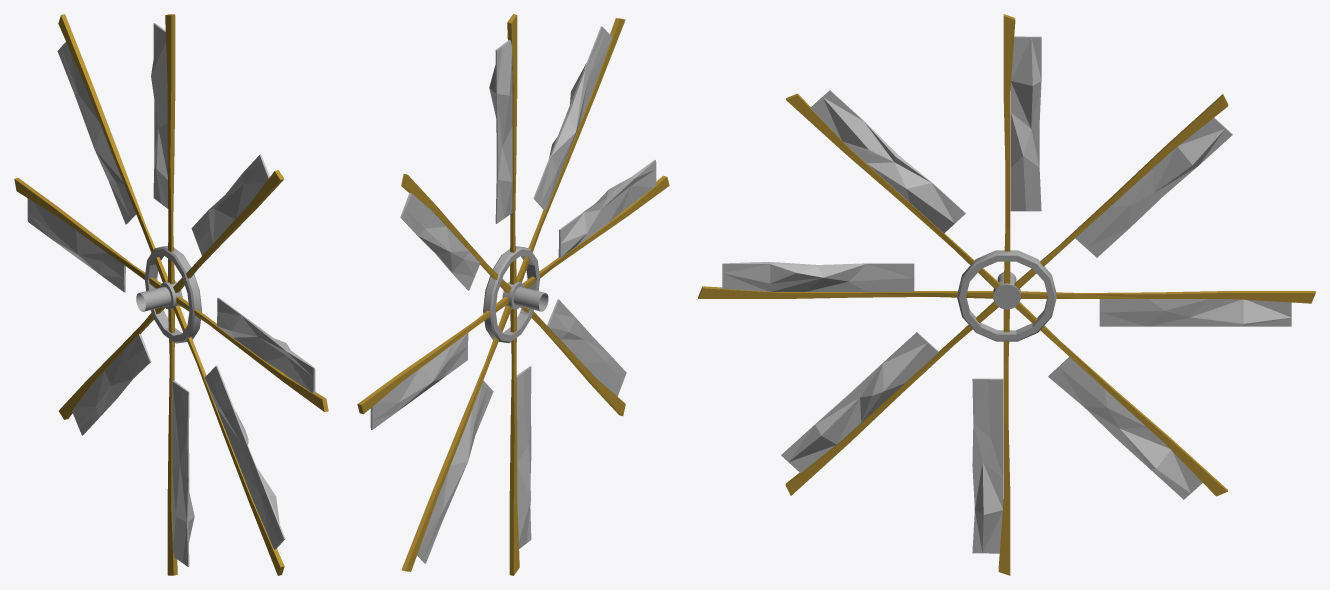
File: ENV_Windomill_01_8side_01.fbx
The picture shows the model from 3 angles, left to right: view 1: azimuth 30°, elevation 25°; view 2: azimuth 150°, elevation 25°; view 3: azimuth 270°, elevation 25°; orthographic projection.
Parts seen in each view (by area): view 1: ENV_Windomill_01_8side_01; view 2: ENV_Windomill_01_8side_01; view 3: ENV_Windomill_01_8side_01.
Part boxes in pixels (<box>): ENV_Windomill_01_8side_01: <box>14,14,328,575</box>; ENV_Windomill_01_8side_01: <box>357,14,669,575</box>; ENV_Windomill_01_8side_01: <box>698,14,1315,575</box>.
Bounding box in the file's own units: 382 × 4890 × 4890.
